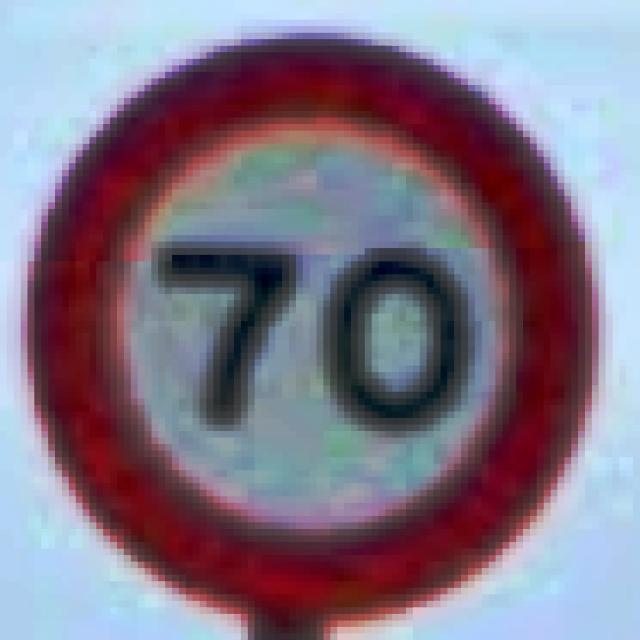max70: (21, 26, 598, 634)
